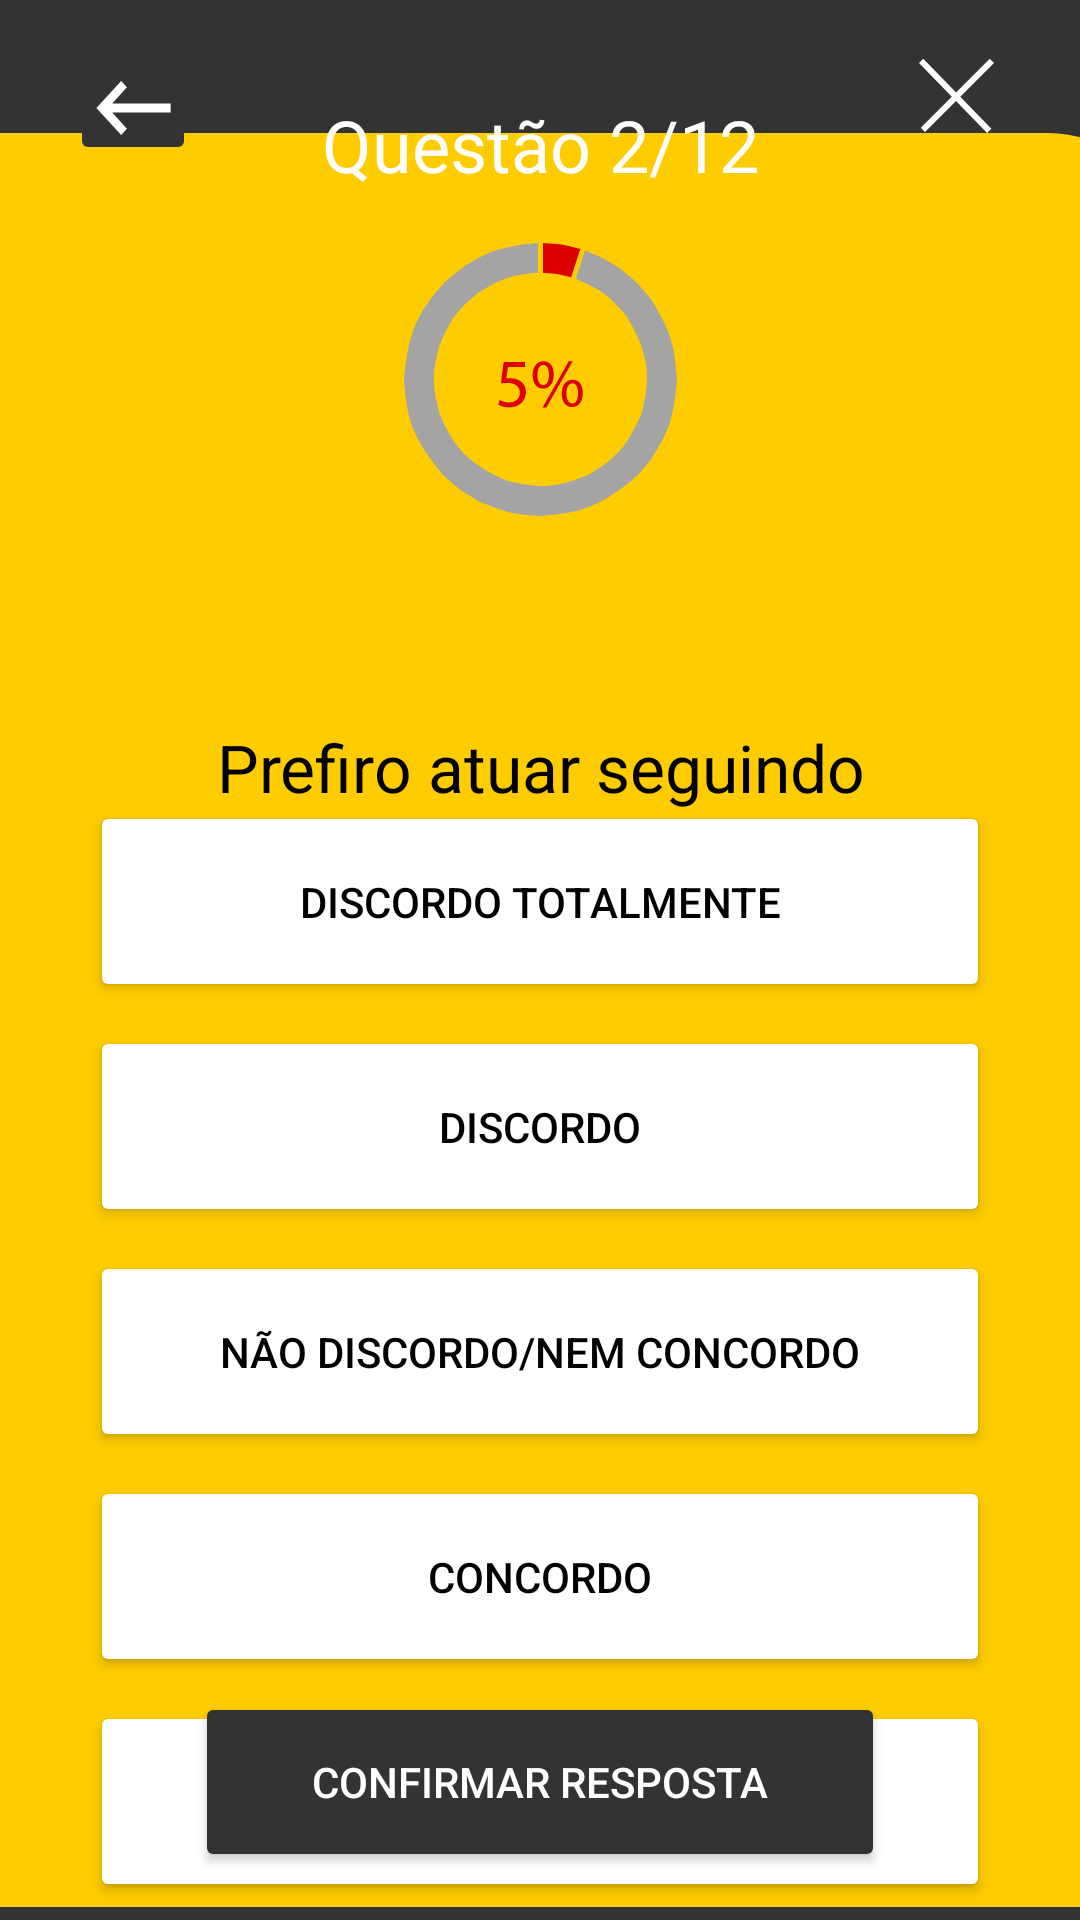

Point at icon controls on the screen. Image size 1080 × 1920, points as [x,y].
arrowback: [133,108]
exit: [956,104]
